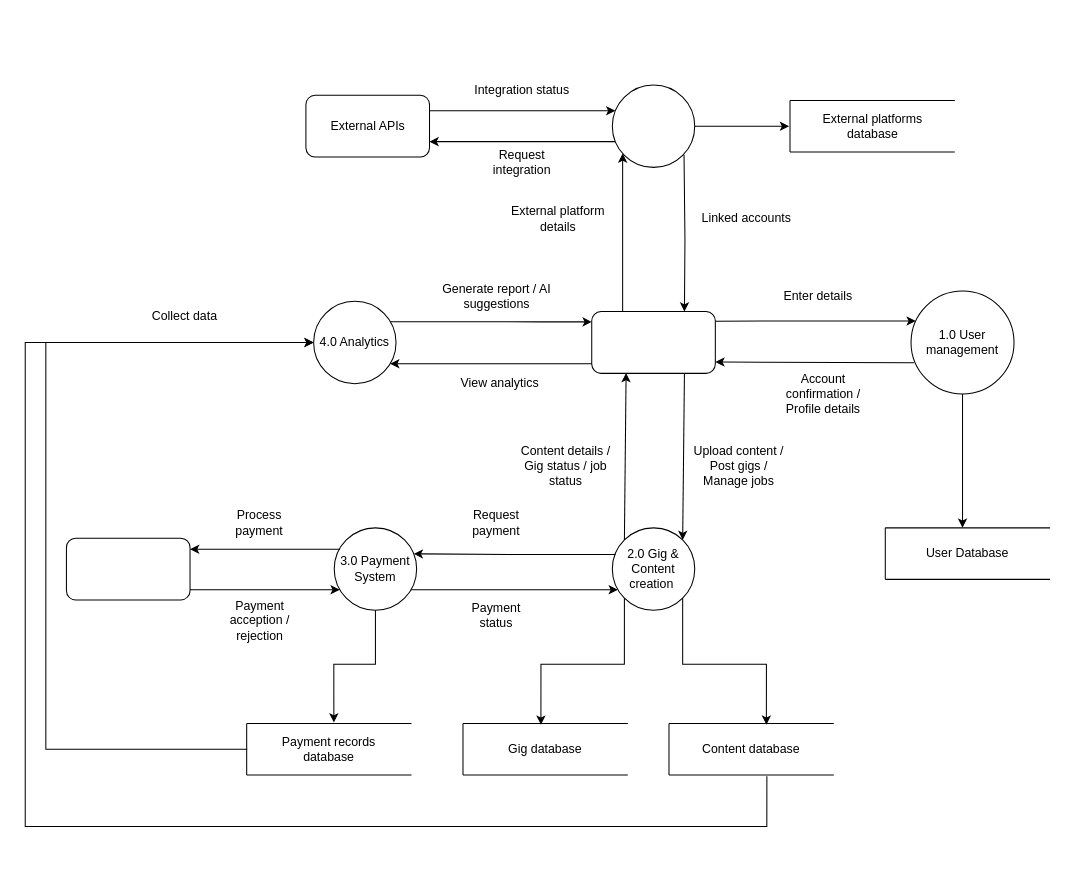
Some shapes in this 1068 by 874 pixel diagram are drawn without their labels. Here are the shapes that lost their labels. From the top down, the box of each, then its label:
(611, 84, 695, 167): 5.0 Platform integration
(591, 311, 715, 373): Gig worker / Creator / Seller / User
(65, 537, 190, 600): Payment gateway
